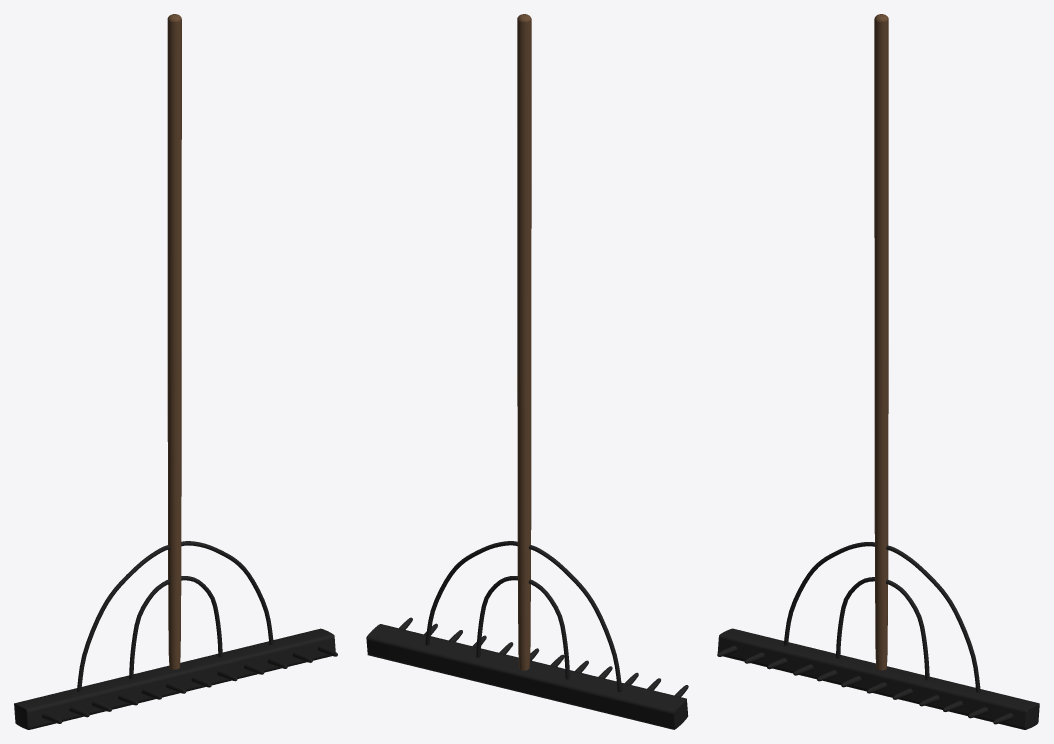
File: rake.glb
3 views of the same model, side by side, from view 1: azimuth 30°, elevation 25°; view 2: azimuth 150°, elevation 25°; view 3: azimuth 330°, elevation 25° (orthographic).
Parts seen in each view (by area): view 1: rake; view 2: rake; view 3: rake.
Part boxes in pixels (bbox=[...]): rake: bbox=[14, 14, 337, 729]; rake: bbox=[366, 14, 688, 729]; rake: bbox=[717, 14, 1039, 729].
Bounding box in the file's own units: 7.09 × 14.82 × 1.24.
